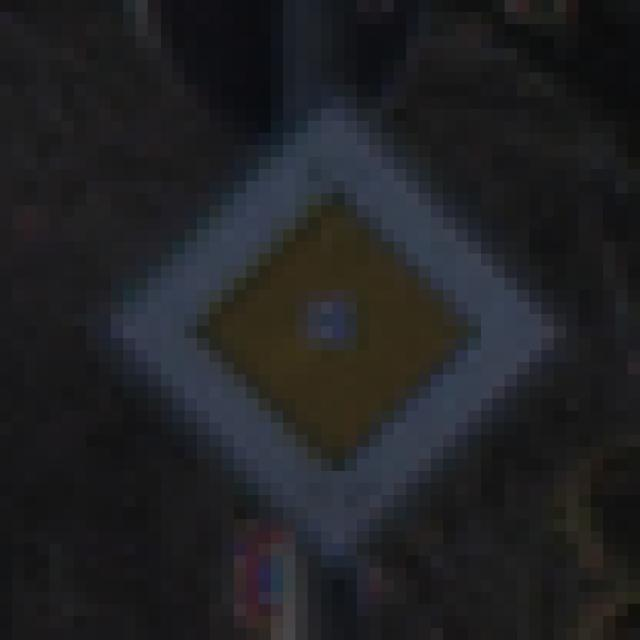Main Road: (63, 74, 580, 581)
